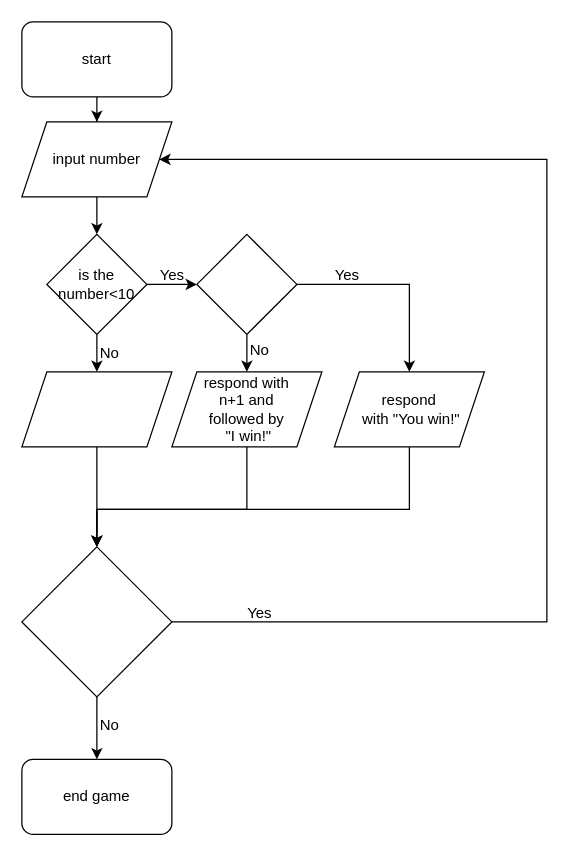
Image size: 579x856. Some labels were removed from this diagram. The box of each missing label's shape, as (x1, y1, x2, y2) in pixels:
does the player want to continue?: (21, 546, 172, 697)
is the number 9?: (196, 233, 297, 334)
respond with "You violate the rules!!!": (21, 371, 172, 447)
